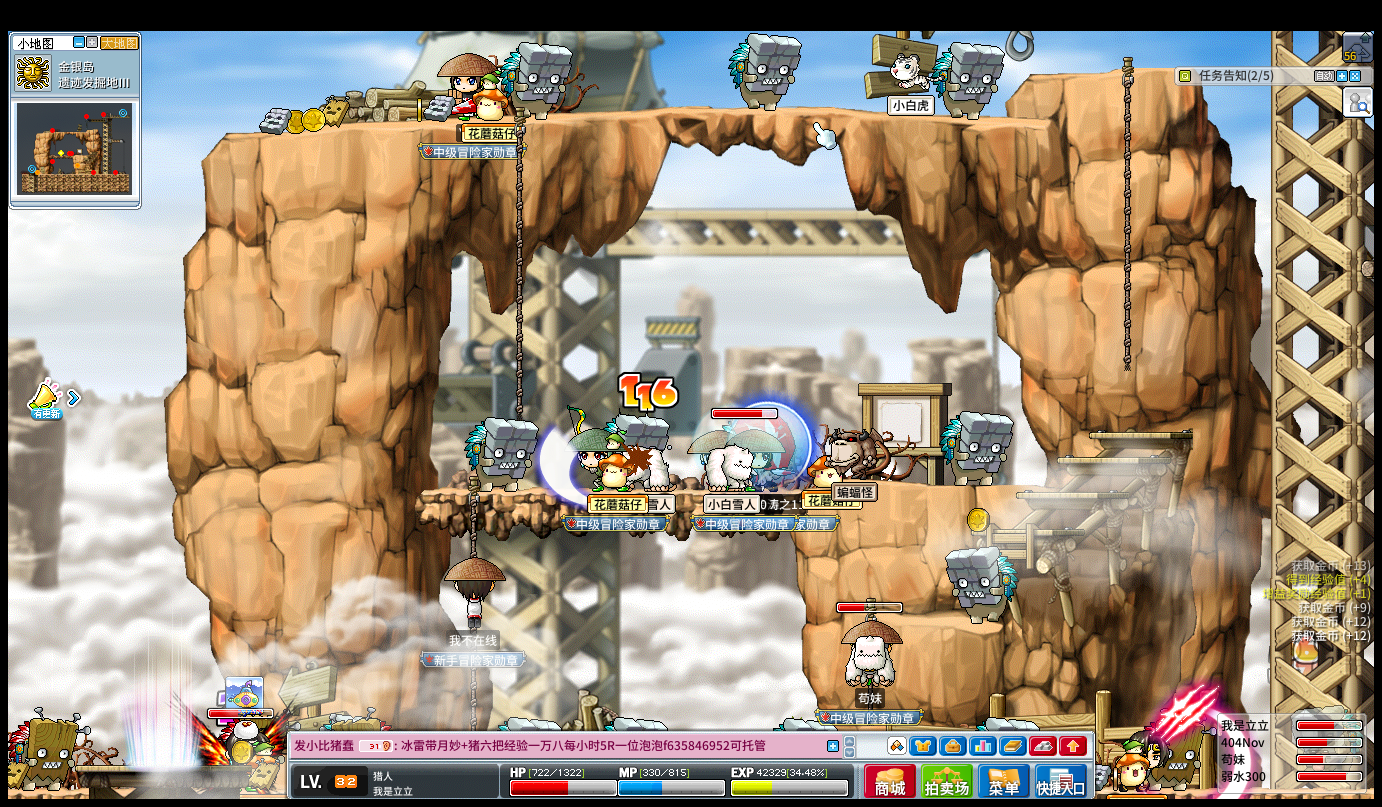floor: (222, 104, 1054, 139), (900, 613, 1006, 635), (884, 481, 1059, 492), (1053, 453, 1168, 464), (1018, 489, 1132, 499), (1090, 429, 1193, 440), (973, 527, 1085, 536)
monster: (8, 710, 89, 790), (728, 30, 803, 112), (498, 40, 573, 119), (464, 416, 541, 492), (944, 546, 1017, 624), (932, 40, 1002, 119), (940, 411, 1013, 486), (611, 415, 673, 450)
rope: (1121, 55, 1134, 372), (514, 105, 525, 420), (1026, 64, 1203, 82), (466, 481, 482, 559)
